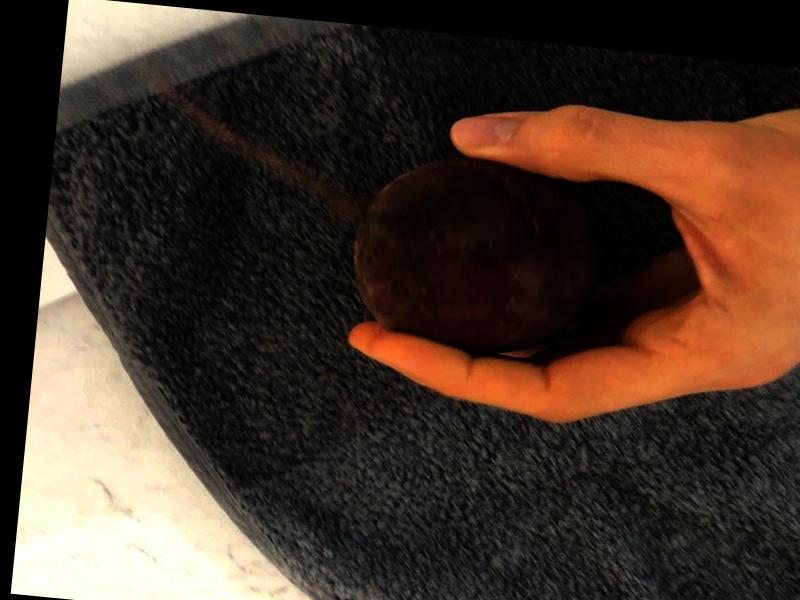Beet: (347, 148, 610, 363)
